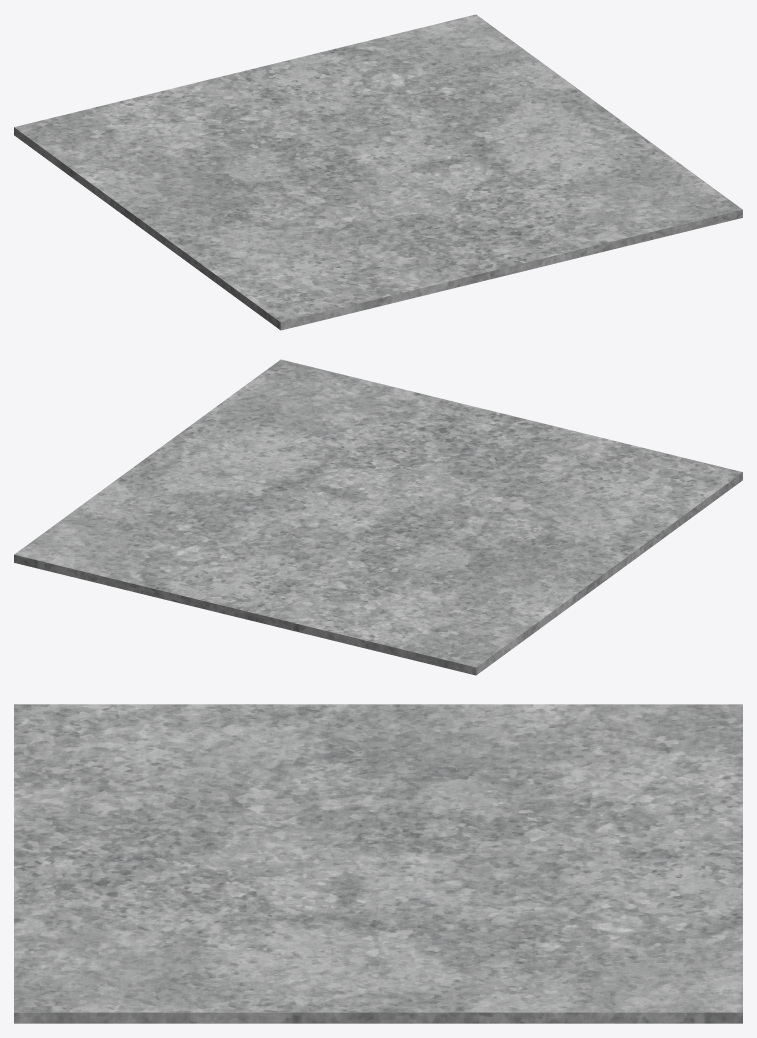
The model's file is C_MetalFloor.fbx.
3 views of the same model, one above another, from view 1: azimuth 30°, elevation 25°; view 2: azimuth 150°, elevation 25°; view 3: azimuth 270°, elevation 25° (orthographic). The views are drawn at different scales.
Visible parts, largest first — view 1: Floor; view 2: Floor; view 3: Floor.
Part boxes in pixels (left/top/right/bottom): Floor: left=14, top=14, right=742, bottom=330; Floor: left=14, top=359, right=742, bottom=675; Floor: left=14, top=704, right=742, bottom=1023.
Bounding box in the file's own units: 6 × 0.1609 × 6.
